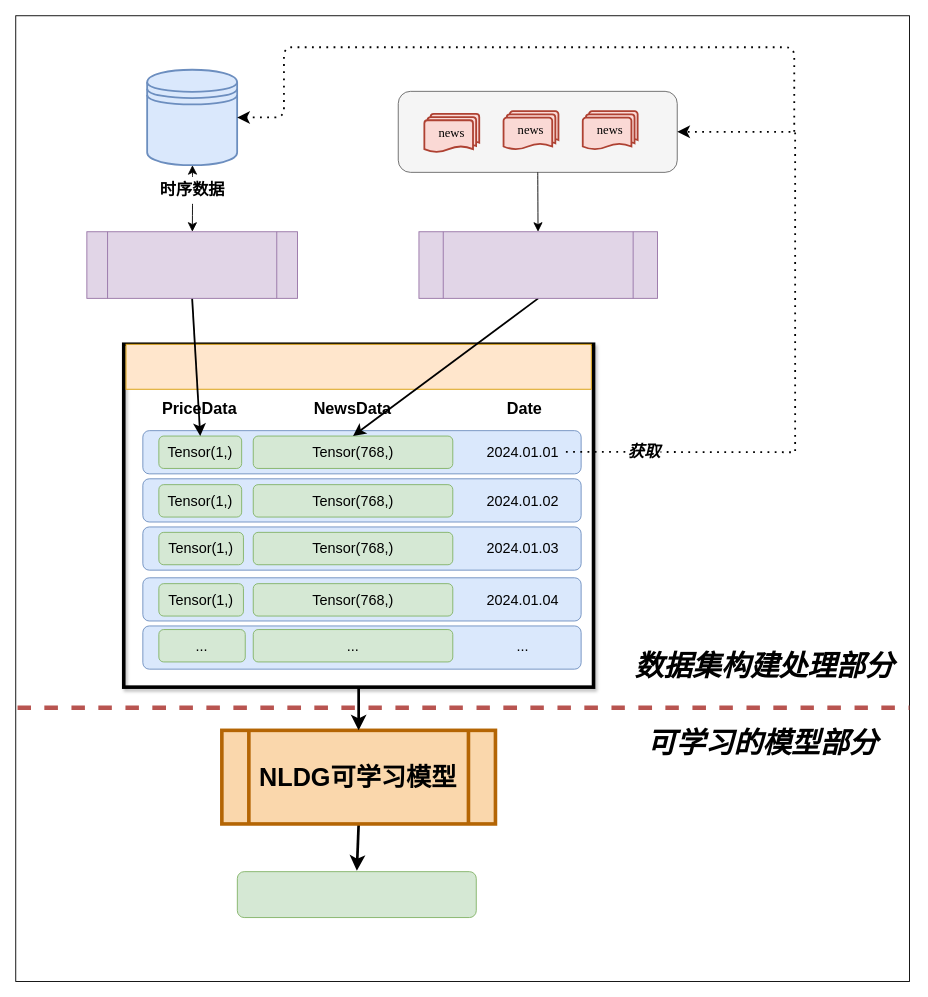
This 928x997 diagram has some shape labels left out. Here are the shapes that lost their labels. From the top down, the centre of each, then its label:
At (192,117): "TuShare".
At (191,264): "时序数据处理".
At (537,264): "金融新闻数据处理".
At (358,366): "News-Llama3-DistilBERT-GRU模型训练集/测试集".
At (356,894): "Tensor(output_size,1)".
